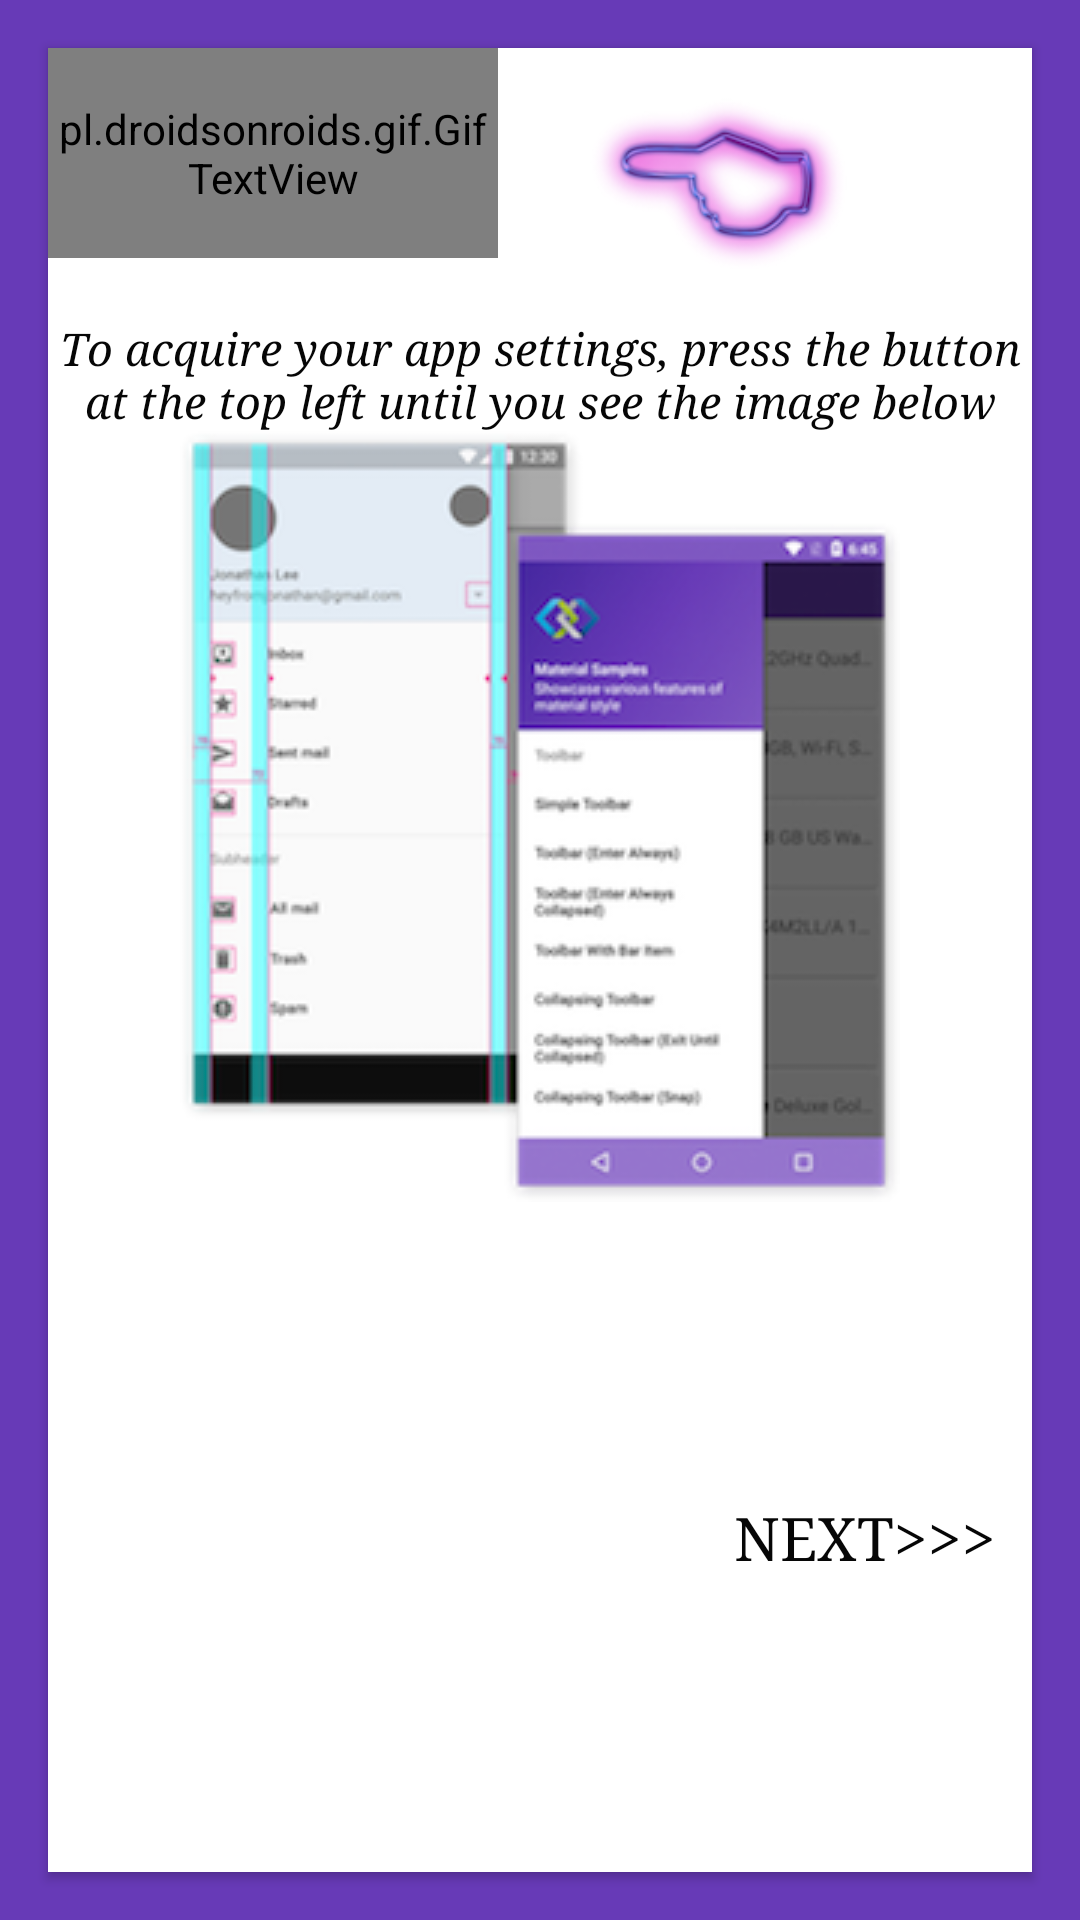

Where to tap for icons on this 1080x1920 app screen, as point (x, y):
finger: point (719, 184)
